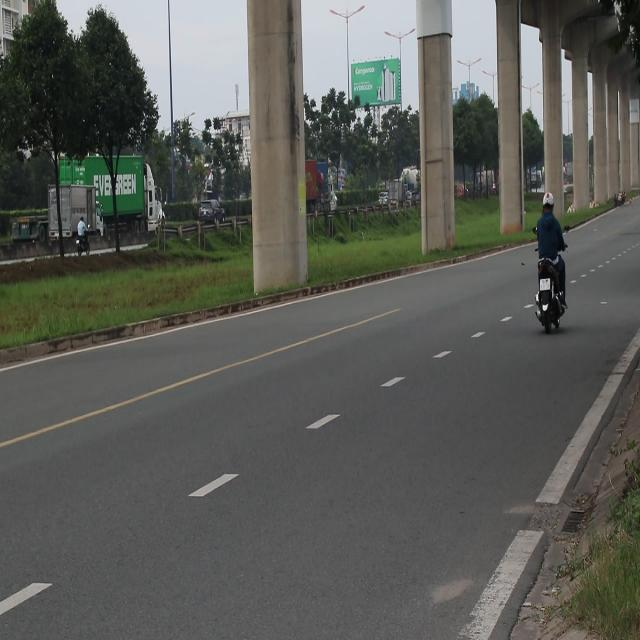car: (198, 198, 224, 224)
motorbike: (532, 260, 569, 336), (71, 215, 96, 259)
truck: (48, 144, 172, 247), (46, 181, 102, 247), (305, 152, 339, 218), (387, 175, 410, 214)
